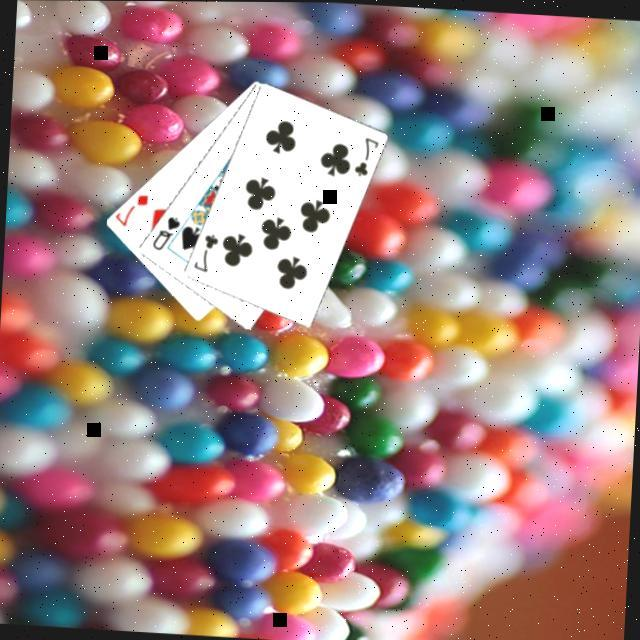7C: (350, 134, 382, 182), (190, 232, 222, 278)
7D: (113, 191, 152, 233)
QS: (149, 214, 185, 256)
